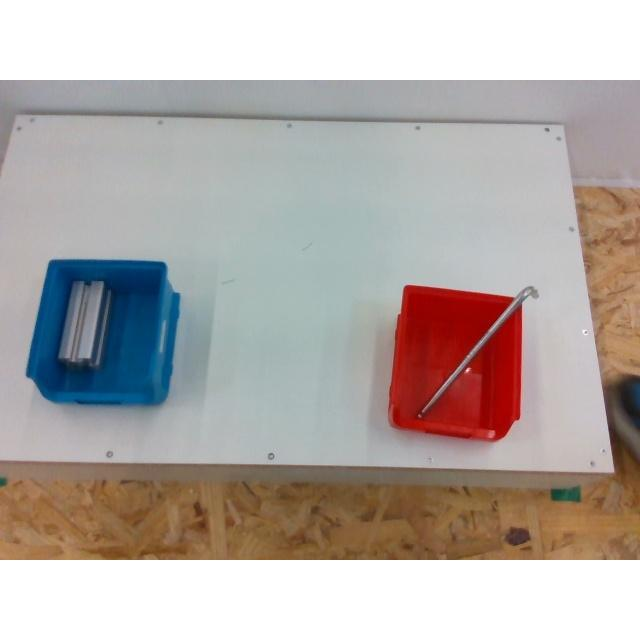AllenKey: (410, 286, 540, 418)
S40_40_G: (58, 282, 110, 366)
container_box_blue: (25, 260, 178, 404)
container_box_red: (388, 284, 520, 440)
